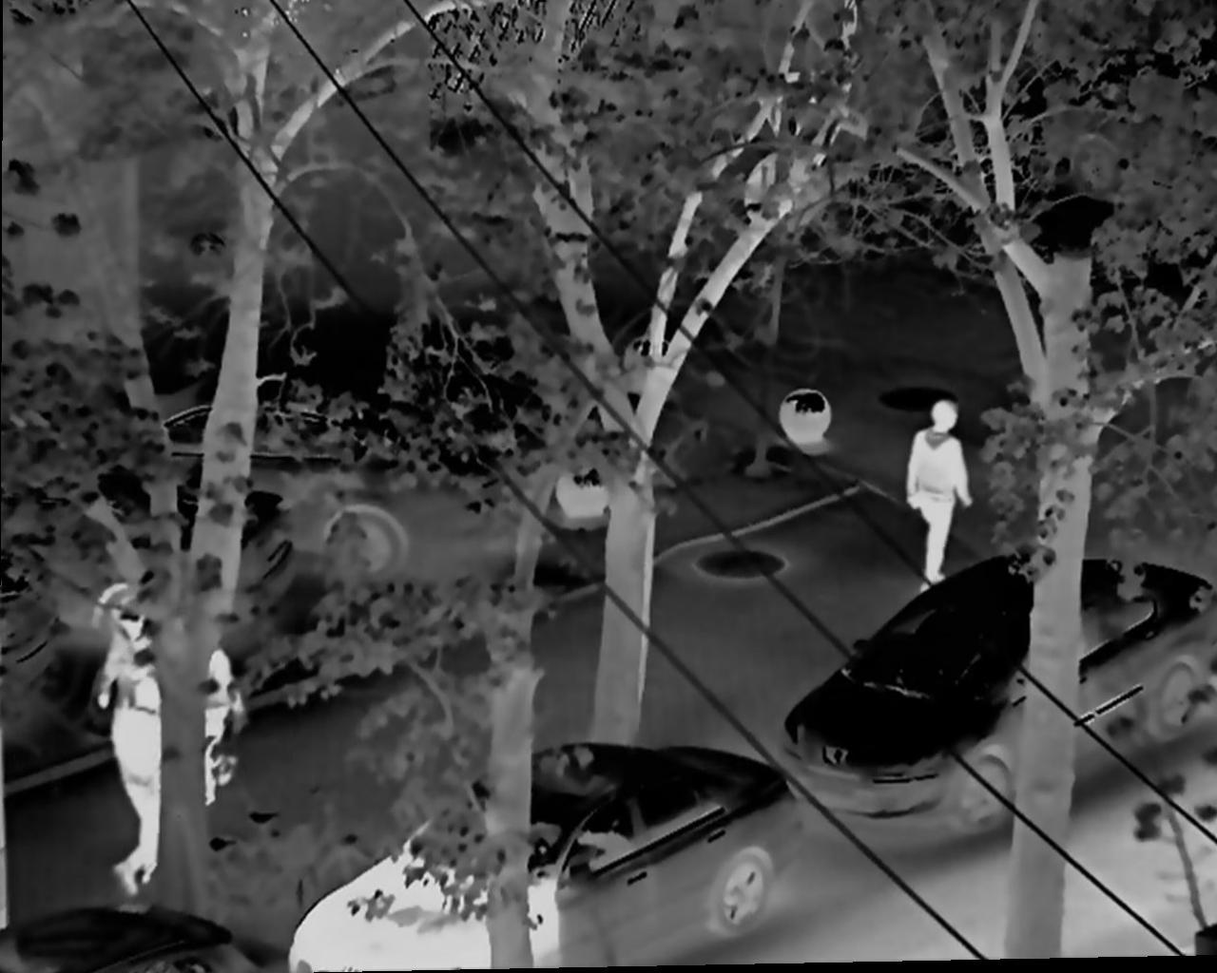person: (101, 683, 201, 925), (80, 589, 171, 753), (904, 393, 971, 595), (198, 643, 247, 822)
